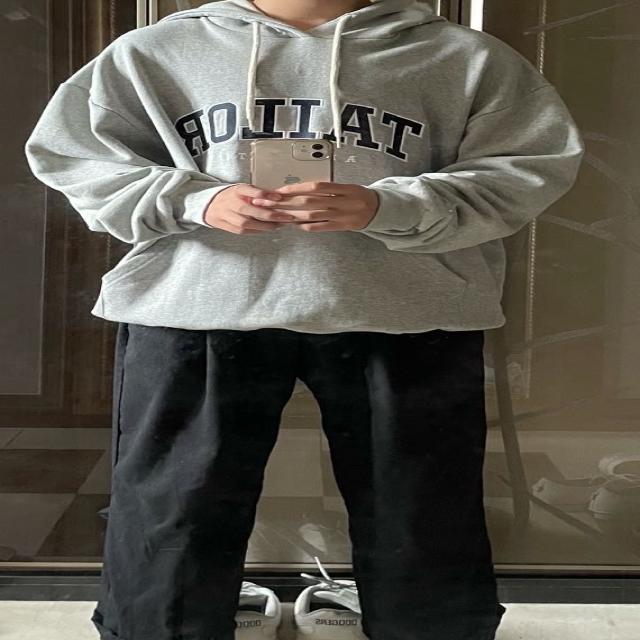denimpants: (95, 319, 498, 635)
hoodies: (30, 0, 568, 335)
